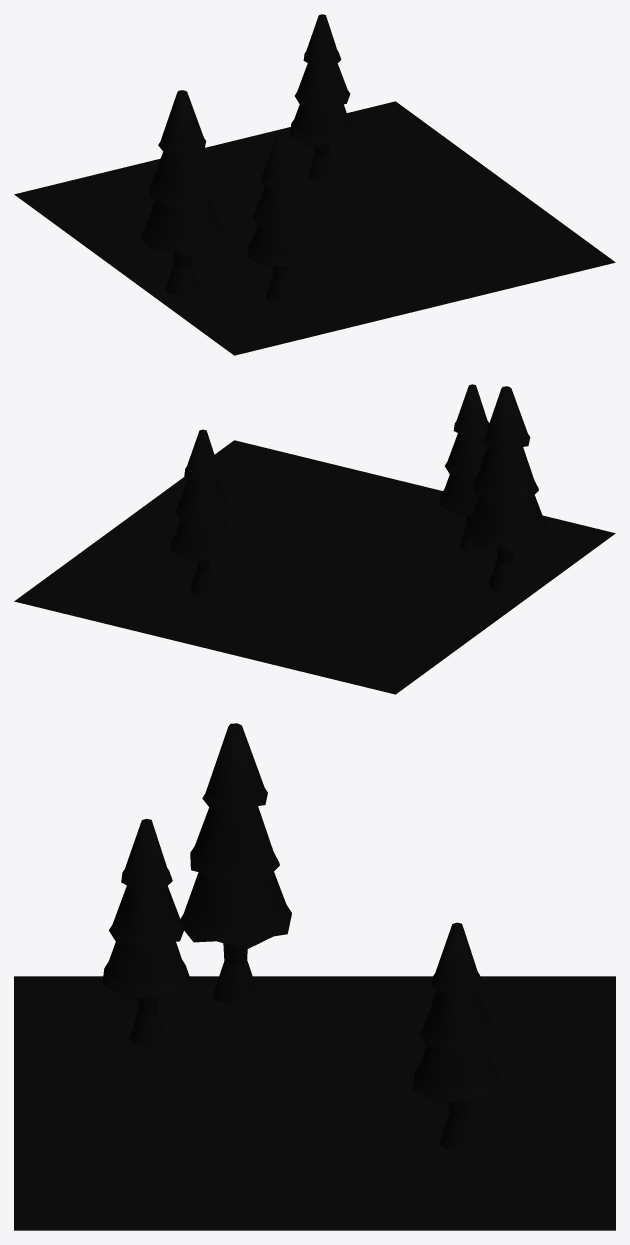
Rendered from decoration-empty.glb.
The picture shows the model from 3 angles, top to bottom: view 1: azimuth 30°, elevation 25°; view 2: azimuth 150°, elevation 25°; view 3: azimuth 270°, elevation 25°; orthographic projection. The views are drawn at different scales.
Visible parts, largest first — view 1: decoration-empty; view 2: decoration-empty; view 3: decoration-empty.
Part boxes in pixels (left/top/right/bottom): decoration-empty: left=14, top=14, right=615, bottom=355; decoration-empty: left=14, top=384, right=615, bottom=694; decoration-empty: left=14, top=723, right=615, bottom=1230.
Bounding box in the file's own units: 10.16 × 4.94 × 10.
Materials: 1 (1 with a texture image).
